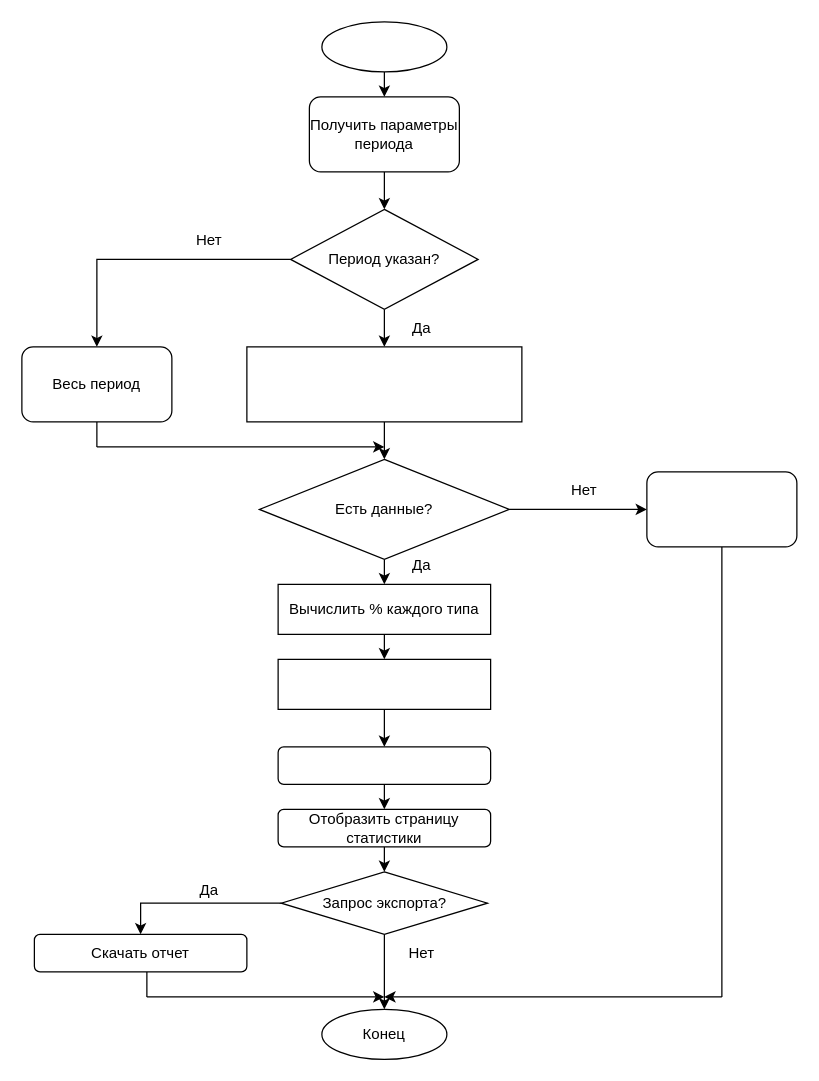
The diagram is 819 pixels wide and 1081 high, and some of its shapes have lost their labels. Here are the shapes that lost their labels. From the top down, the centre of each, then its label:
At (384,46): "Начало".
At (384,384): "Вывод по типу оборудования и периоду".
At (721,509): "Нет заявок".
At (384,683): "Вычислить среднее время выполнения по каждому типу".
At (384,765): "Передать данные".
